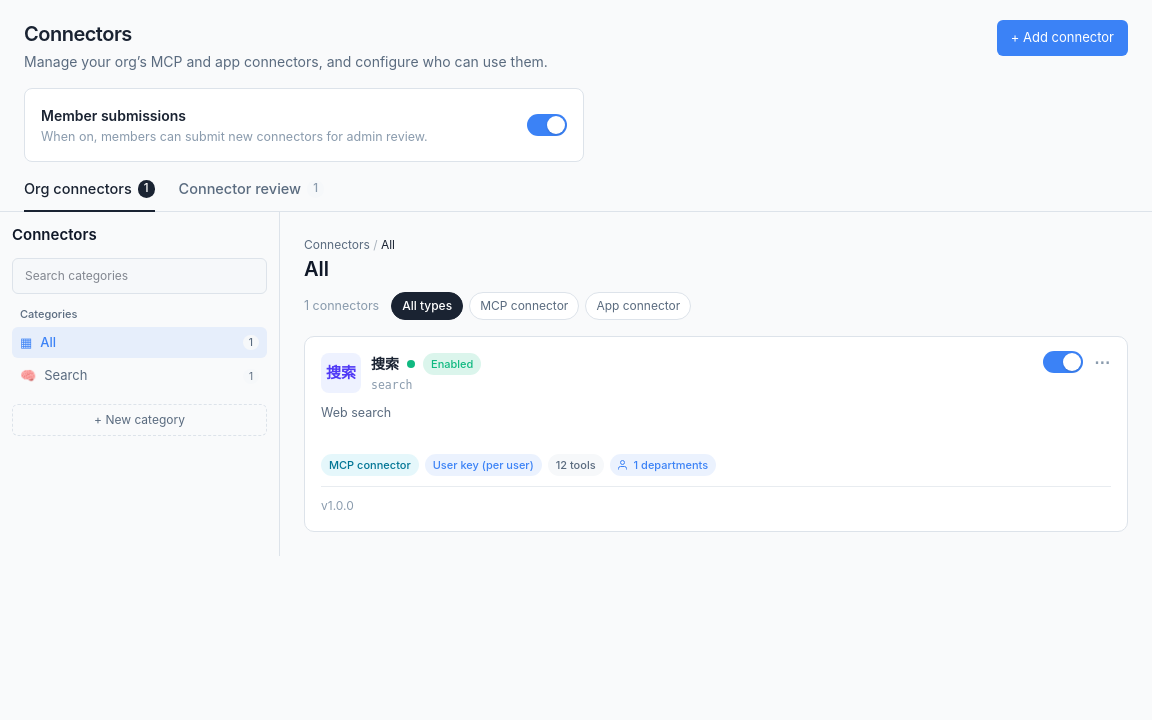
Test case: MCPManagePage (org connectors + review tabs) › the Add connector button opens the create drawer
The image size is (1152, 720).
Expected: the text "Web search" is shown, [321,405,391,420]
Click the button "+ Add connector": coordinates (1062, 38) [997,20,1128,56]
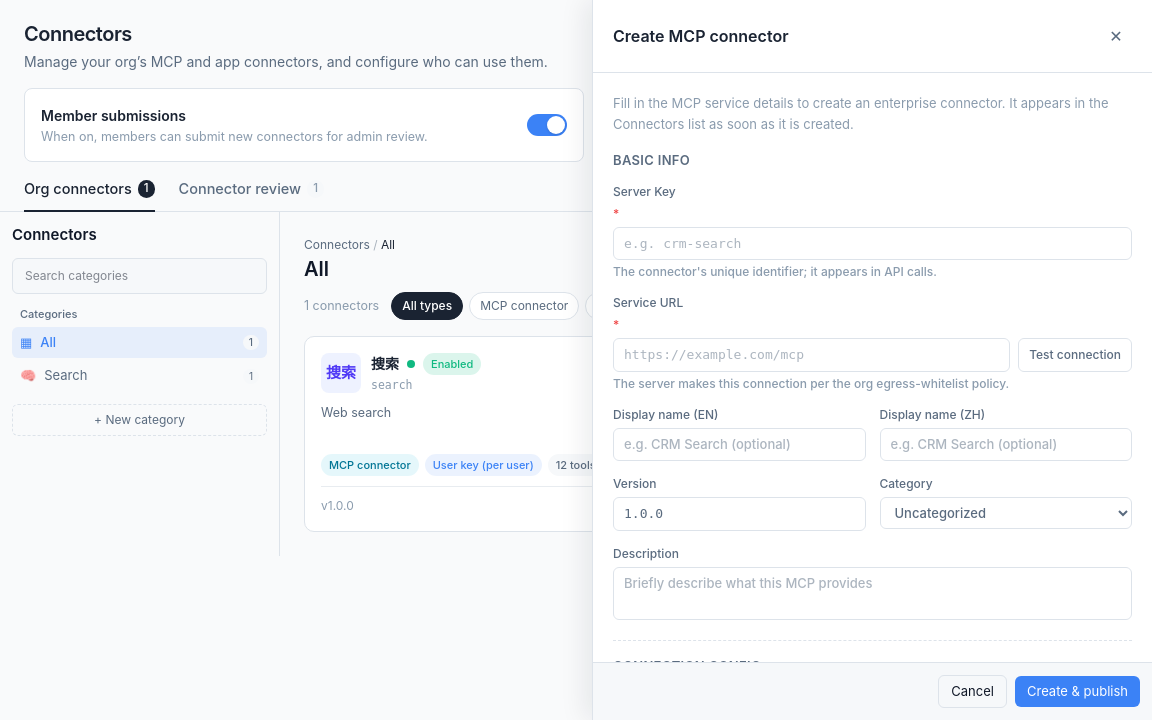
Now the heading "Create MCP connector" is shown, box [613,24,788,48]
